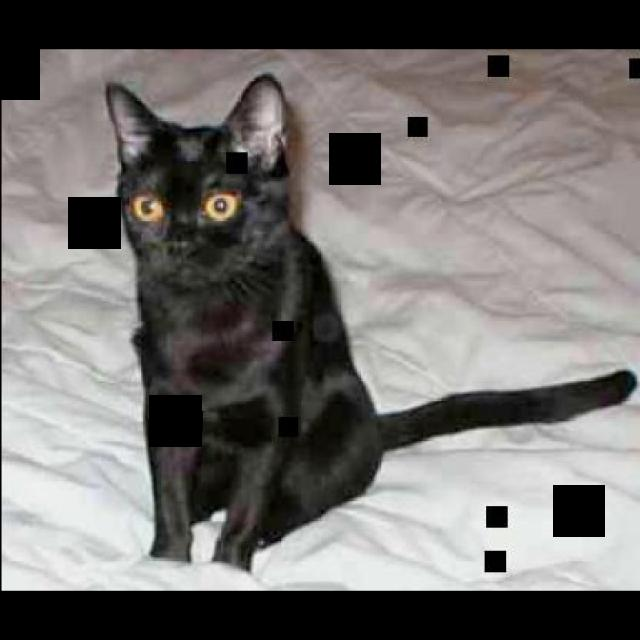unauthorized: (103, 71, 639, 574)
